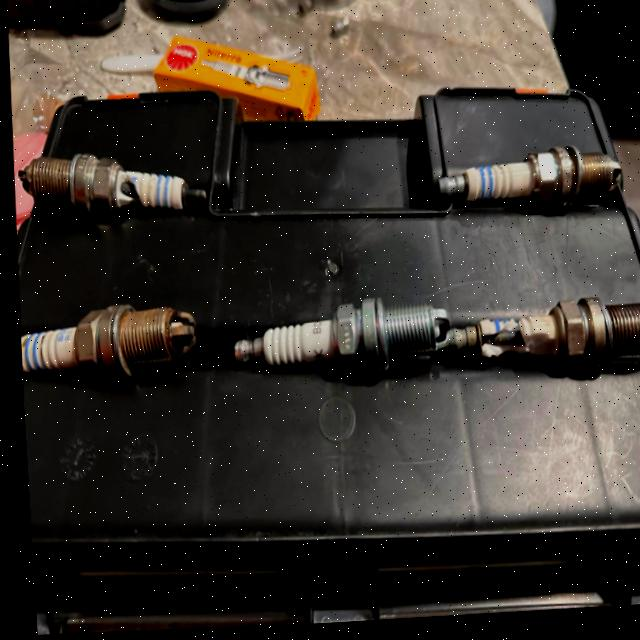damaged_spark-plug: (8, 126, 231, 228), (446, 286, 640, 386)
spark-plug: (218, 276, 449, 394), (428, 140, 634, 218), (16, 303, 191, 380)
